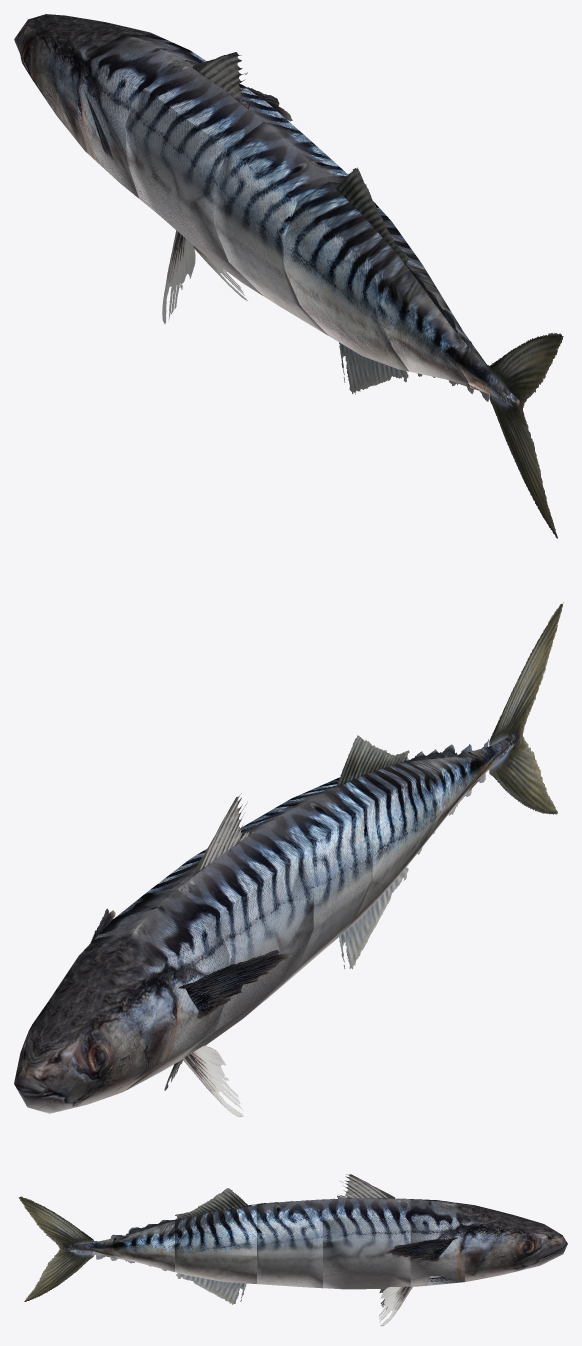
The model's file is sectioned_mackerel.fbx.
3 views of the same model, one above another, from view 1: azimuth 30°, elevation 25°; view 2: azimuth 150°, elevation 25°; view 3: azimuth 270°, elevation 25° (orthographic). The views are drawn at different scales.
Parts seen in each view (by area): view 1: mackerel.003, mackerel.005, mackerel.004, mackerel.002, mackerel, mackerel.006, mackerel.001; view 2: mackerel.001, mackerel.003, mackerel.002, mackerel.005, mackerel.004, mackerel, mackerel.006; view 3: mackerel.003, mackerel.005, mackerel.004, mackerel.001, mackerel.002, mackerel, mackerel.006.
Part boxes in pixels (x1,y1,x2,y2): mackerel.003: [125, 52, 298, 323]; mackerel.005: [284, 167, 427, 394]; mackerel.004: [213, 122, 348, 335]; mackerel.002: [76, 34, 292, 198]; mackerel: [459, 333, 563, 538]; mackerel.006: [382, 260, 477, 392]; mackerel.001: [14, 14, 159, 153]; mackerel.001: [14, 943, 172, 1113]; mackerel.003: [140, 793, 313, 1116]; mackerel.002: [88, 889, 292, 1090]; mackerel.005: [299, 735, 436, 969]; mackerel.004: [241, 791, 372, 1000]; mackerel: [469, 602, 563, 814]; mackerel.006: [409, 744, 481, 860]; mackerel.003: [323, 1174, 412, 1326]; mackerel.005: [175, 1188, 256, 1304]; mackerel.004: [257, 1199, 322, 1288]; mackerel.001: [464, 1204, 567, 1281]; mackerel.002: [384, 1199, 464, 1286]; mackerel: [18, 1196, 113, 1301]; mackerel.006: [113, 1220, 174, 1271].
Size of the model in its own units: 16.96 by 25.56 by 84.93.
